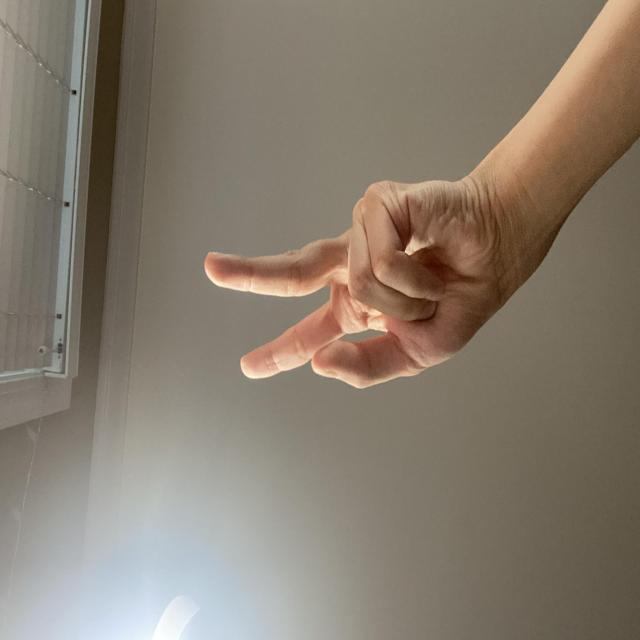K: (176, 268, 361, 640)
